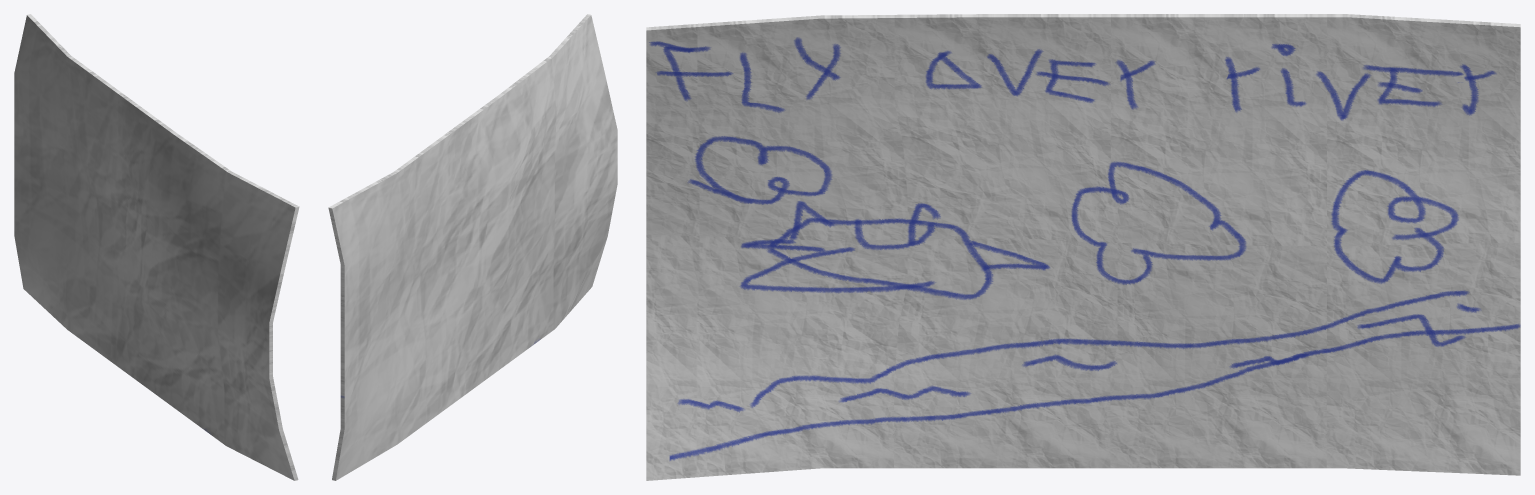
File: Fly_river_paper.fbx
3 renders of one model, left to right at view 1: azimuth 30°, elevation 25°; view 2: azimuth 150°, elevation 25°; view 3: azimuth 270°, elevation 25°, orthographic. The views are drawn at different scales.
Visible parts, largest first — view 1: pPlane1; view 2: pPlane1; view 3: pPlane1.
Part boxes in pixels (<box>): pPlane1: <box>14,14,299,480</box>; pPlane1: <box>328,14,617,480</box>; pPlane1: <box>646,14,1520,480</box>.
Bounding box in the file's own units: 0.7553 × 6.08 × 10.68.
1 material, 1 textured.
